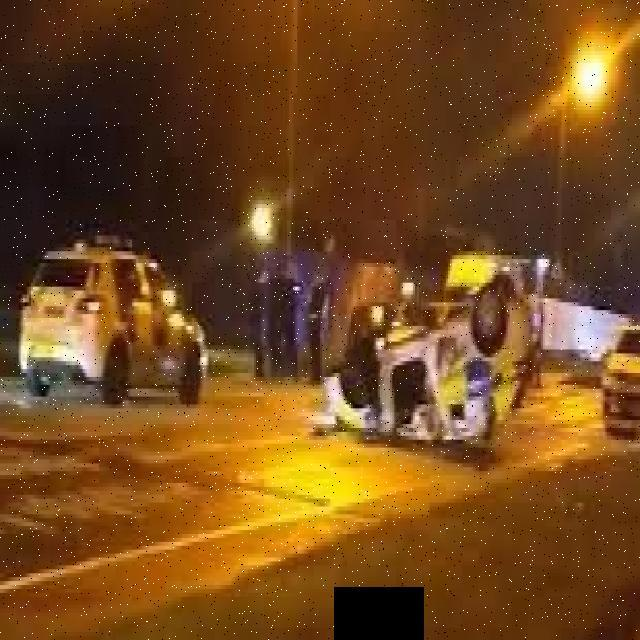severe: (334, 264, 537, 458)
